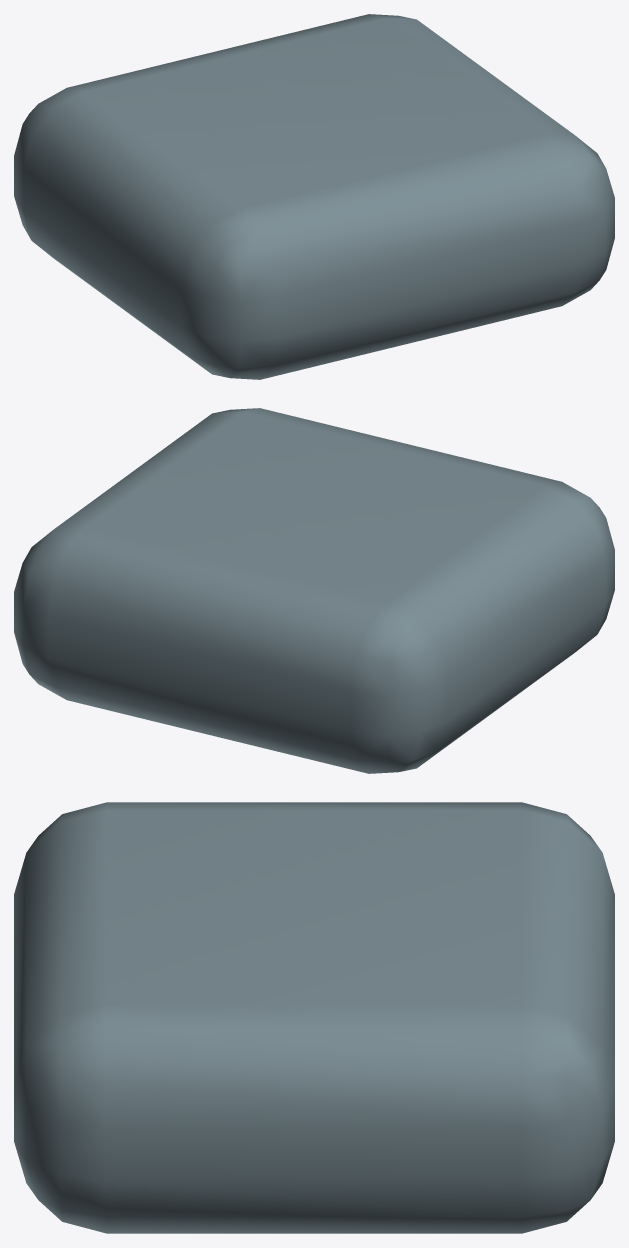
The model's file is cushion.glb.
The picture shows the model from 3 angles, top to bottom: view 1: azimuth 30°, elevation 25°; view 2: azimuth 150°, elevation 25°; view 3: azimuth 270°, elevation 25°; orthographic projection. The views are drawn at different scales.
Visible parts, largest first — view 1: pillow_body; view 2: pillow_body; view 3: pillow_body.
Boxes of the visible parts, x1,y1,x2,y2 form: pillow_body: (14,14,614,379); pillow_body: (14,408,614,773); pillow_body: (14,802,614,1233).
Size of the model in its own units: 0.45 by 0.17 by 0.42.
